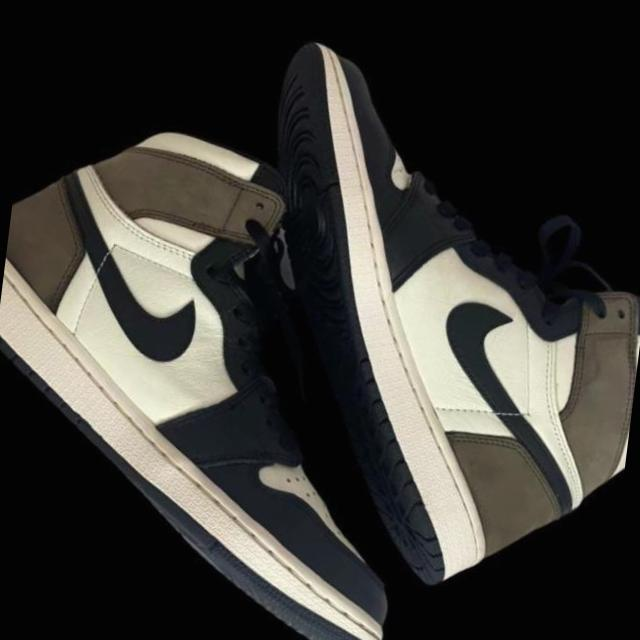nike_original_jordan: (52, 0, 640, 640), (0, 28, 614, 640)
